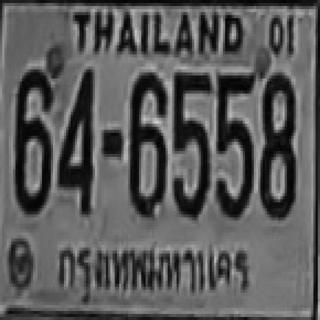N04: (57, 66, 93, 211)
N05: (214, 72, 254, 218), (171, 71, 208, 216)
N06: (13, 68, 51, 213), (128, 70, 166, 214)
N08: (258, 70, 293, 218)
P04: (51, 232, 255, 311)
